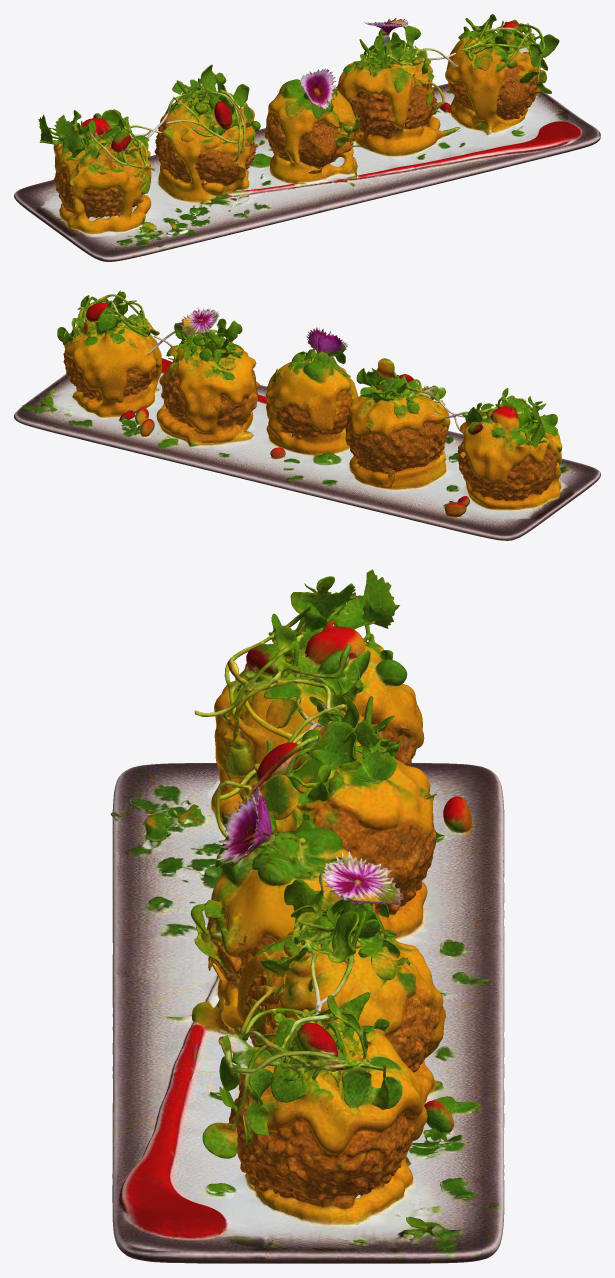
File: compressed_cheese_fitters.glb
3 views of the same model, one above another, from view 1: azimuth 30°, elevation 25°; view 2: azimuth 150°, elevation 25°; view 3: azimuth 270°, elevation 25° (orthographic). The views are drawn at different scales.
Parts seen in each view (by area): view 1: mesh_node; view 2: mesh_node; view 3: mesh_node.
Boxes of the visible parts, x1,y1,x2,y2 form: mesh_node: [14, 14, 600, 261]; mesh_node: [14, 290, 600, 540]; mesh_node: [110, 569, 504, 1263].
Bounding box in the file's own units: 0.2617 × 0.0604 × 0.0879.
Materials: 1 (1 with a texture image).
